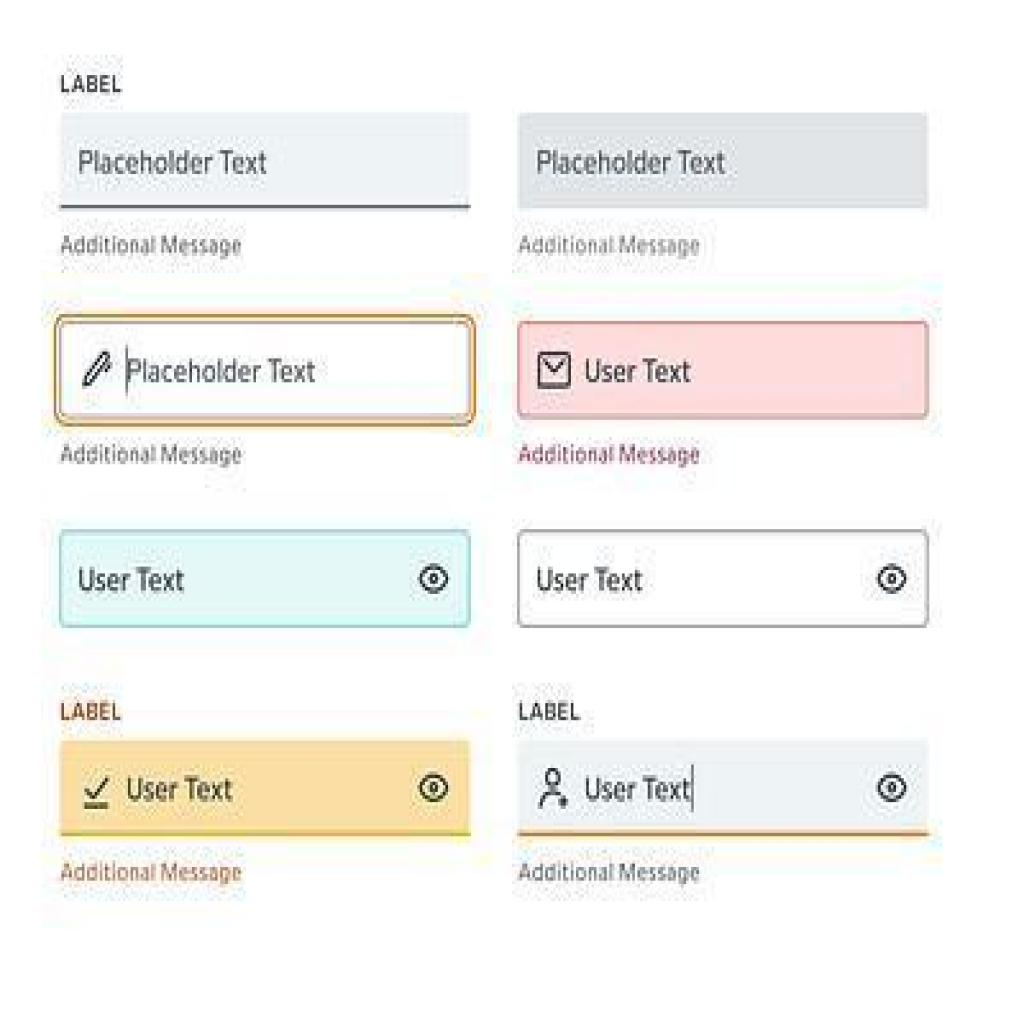icon: (532, 754, 576, 816), (532, 348, 576, 393), (76, 342, 112, 392), (873, 764, 914, 806), (82, 768, 115, 819), (415, 764, 453, 806), (876, 556, 912, 598), (415, 556, 453, 594)
input: (54, 314, 476, 427), (517, 109, 929, 212), (59, 529, 471, 632), (59, 737, 471, 840), (54, 112, 471, 212), (517, 529, 927, 625), (520, 741, 929, 833), (520, 321, 926, 413)
label: (59, 696, 123, 724), (517, 700, 581, 727), (59, 72, 123, 96)
